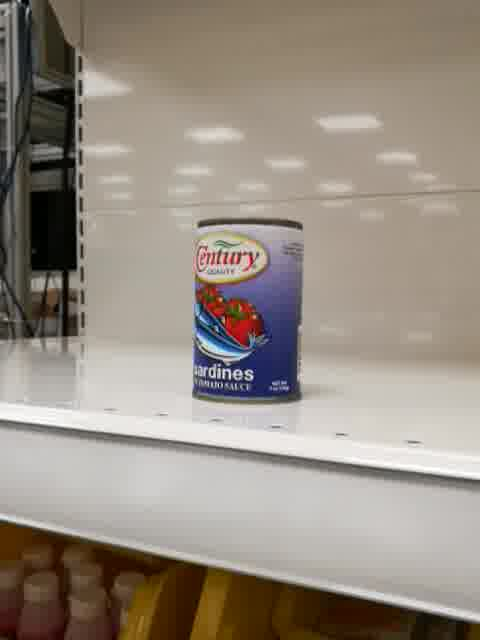sardine: (190, 215, 307, 406)
